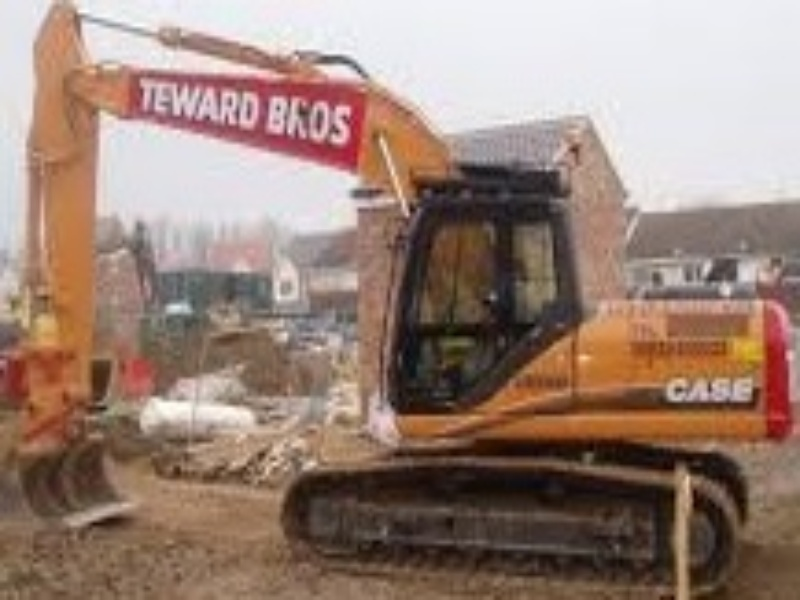wajueji: (259, 71, 800, 598)
